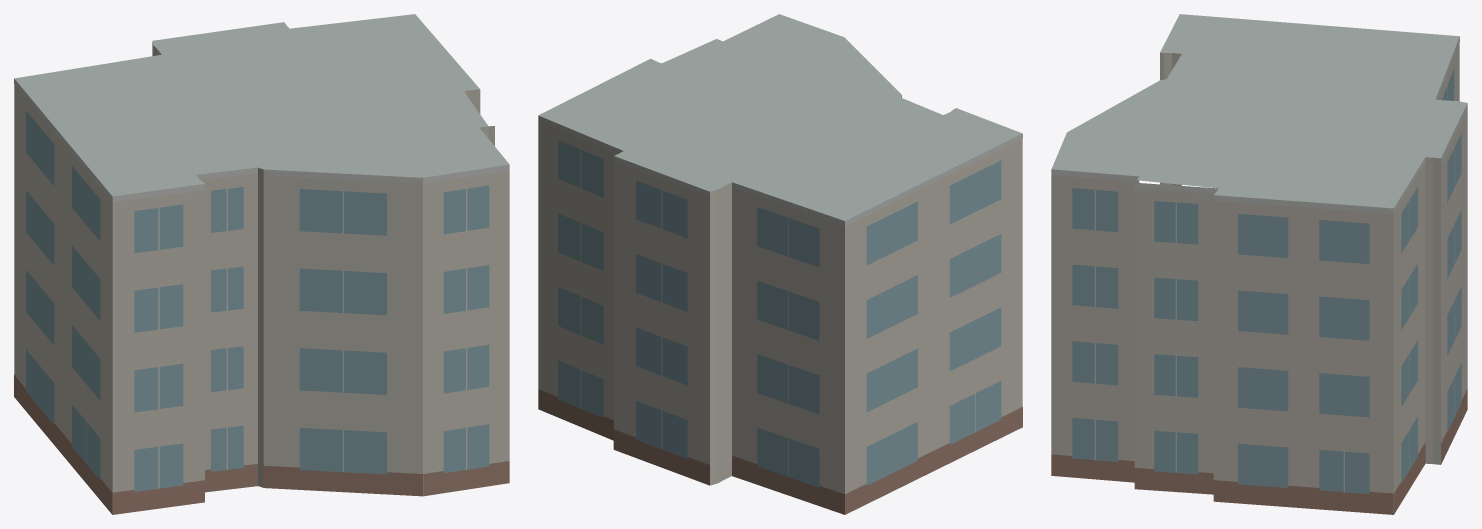
File: survey-upis-32883191.glb
The picture shows the model from 3 angles, left to right: view 1: azimuth 30°, elevation 25°; view 2: azimuth 150°, elevation 25°; view 3: azimuth 270°, elevation 25°; orthographic projection. The views are drawn at different scales.
Parts seen in each view (by area): view 1: survey-upis-32883191.tmp; view 2: survey-upis-32883191.tmp; view 3: survey-upis-32883191.tmp.
Part boxes in pixels (left/top/right/bottom): survey-upis-32883191.tmp: left=14, top=14, right=509, bottom=514; survey-upis-32883191.tmp: left=538, top=14, right=1022, bottom=514; survey-upis-32883191.tmp: left=1051, top=14, right=1467, bottom=514.
Size of the model in its own units: 17.96 by 13.2 by 16.25.
